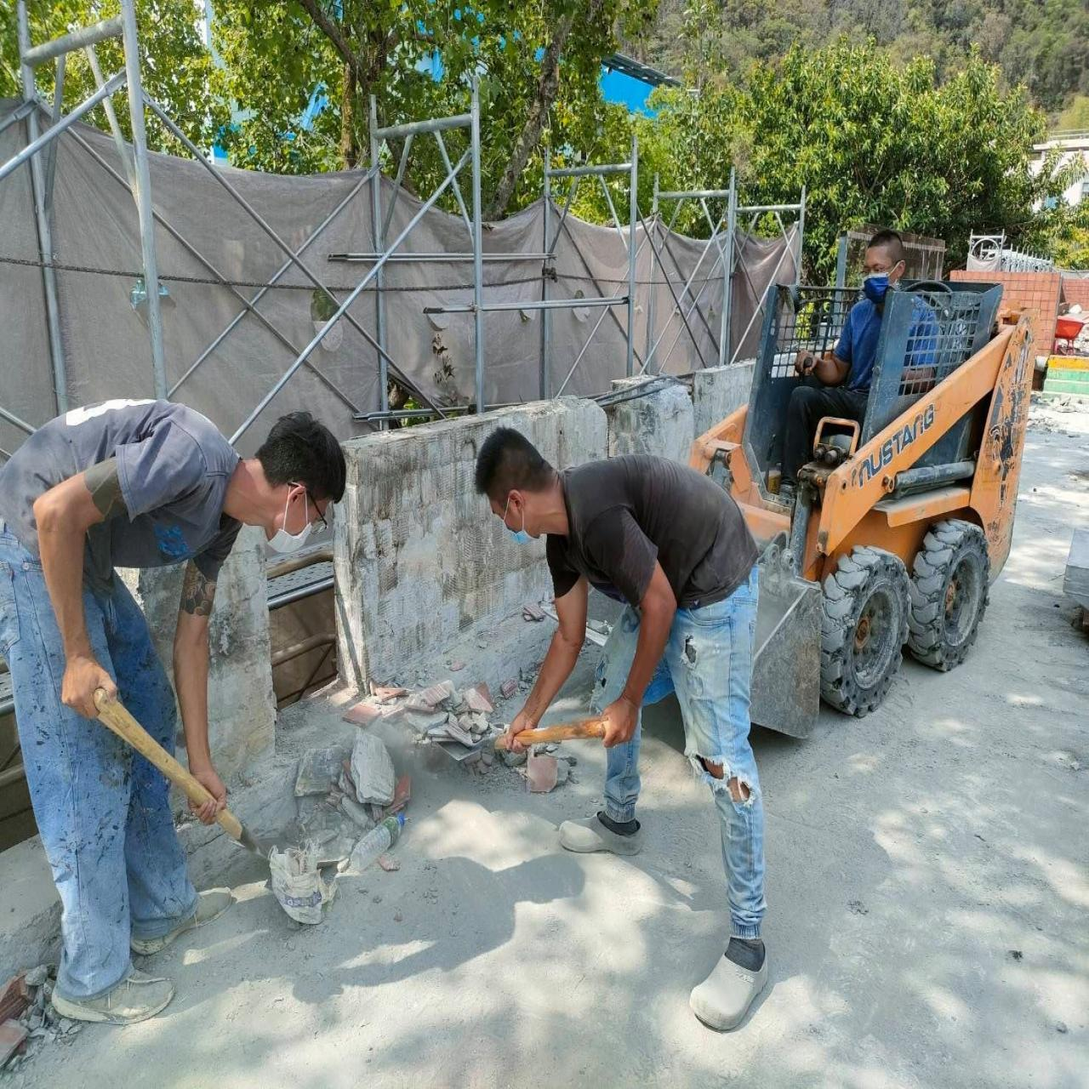NO_Safety_Vest: (2, 403, 226, 592), (561, 459, 756, 609)
Person: (0, 377, 356, 1046), (467, 420, 787, 1038)
